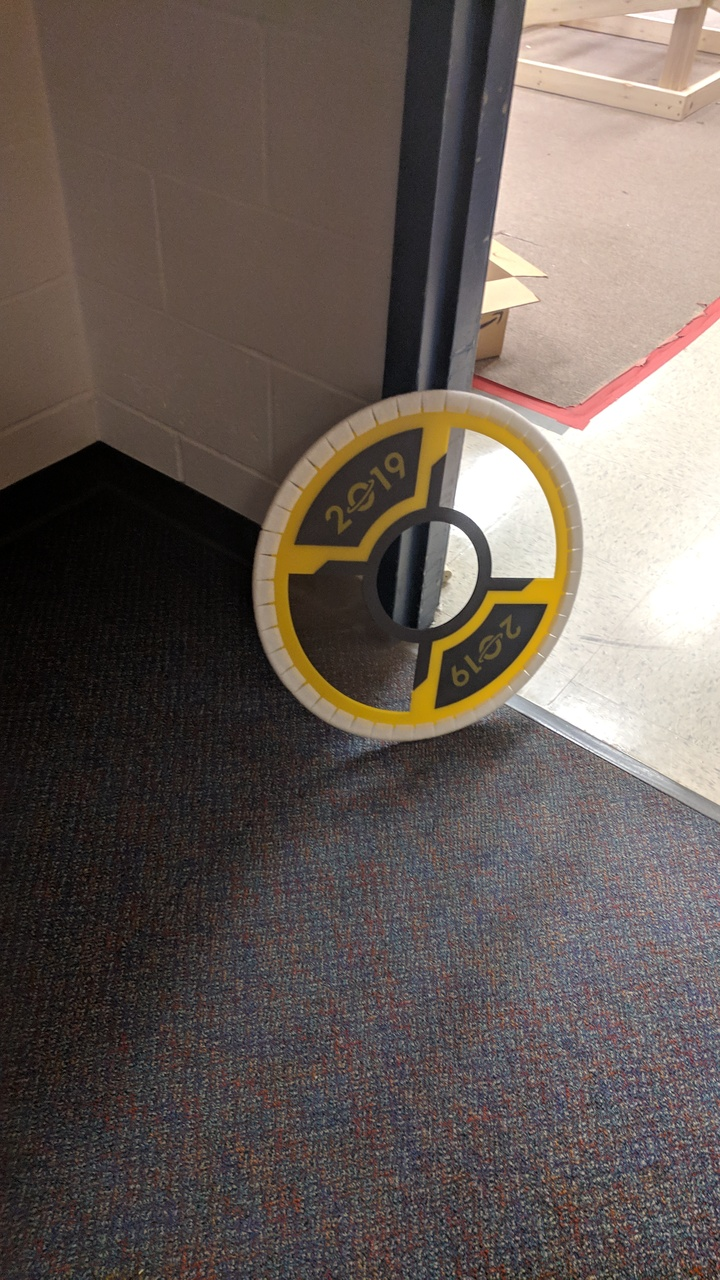hatch_panel: (248, 389, 582, 747)
